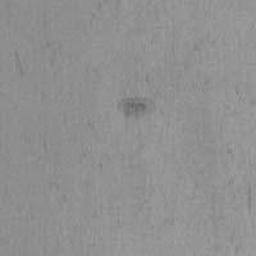Oil spot: (115, 95, 157, 127)
